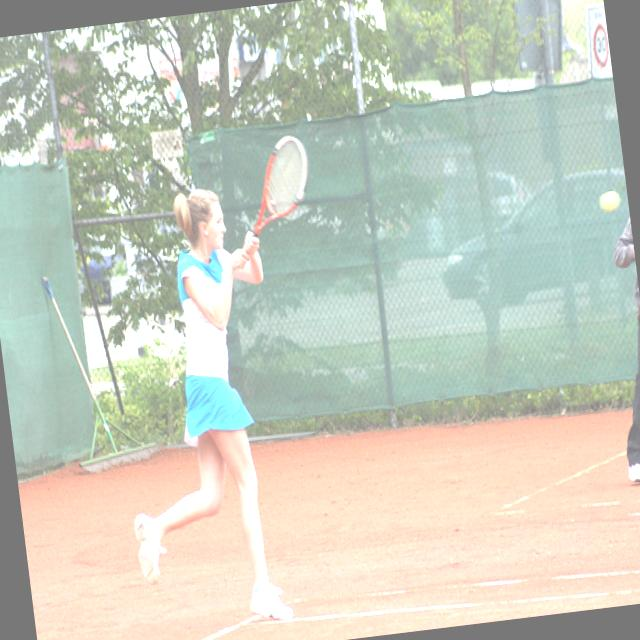Vehicle: (429, 164, 639, 314), (487, 168, 532, 220)
